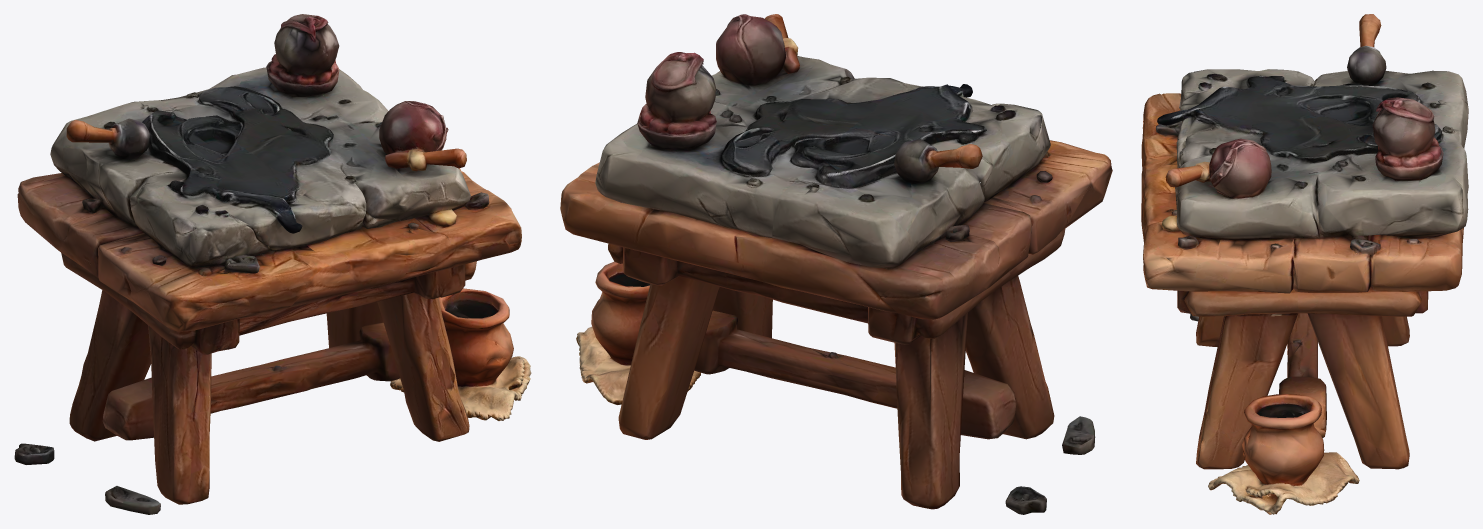
Rendered from ink_table.glb.
3 views of the same model, side by side, from view 1: azimuth 30°, elevation 25°; view 2: azimuth 150°, elevation 25°; view 3: azimuth 270°, elevation 25° (orthographic). The views are drawn at different scales.
Visible parts, largest first — view 1: tripo_node_e6594c9e-bd80-4422-bc6e-777acfd5424b; view 2: tripo_node_e6594c9e-bd80-4422-bc6e-777acfd5424b; view 3: tripo_node_e6594c9e-bd80-4422-bc6e-777acfd5424b.
Part boxes in pixels (x1,y1,x2,y2): tripo_node_e6594c9e-bd80-4422-bc6e-777acfd5424b: (14, 14, 531, 514); tripo_node_e6594c9e-bd80-4422-bc6e-777acfd5424b: (560, 14, 1112, 514); tripo_node_e6594c9e-bd80-4422-bc6e-777acfd5424b: (1141, 14, 1468, 514).
Size of the model in its own units: 0.9475 by 0.685 by 0.5909.
1 material, 1 textured.
